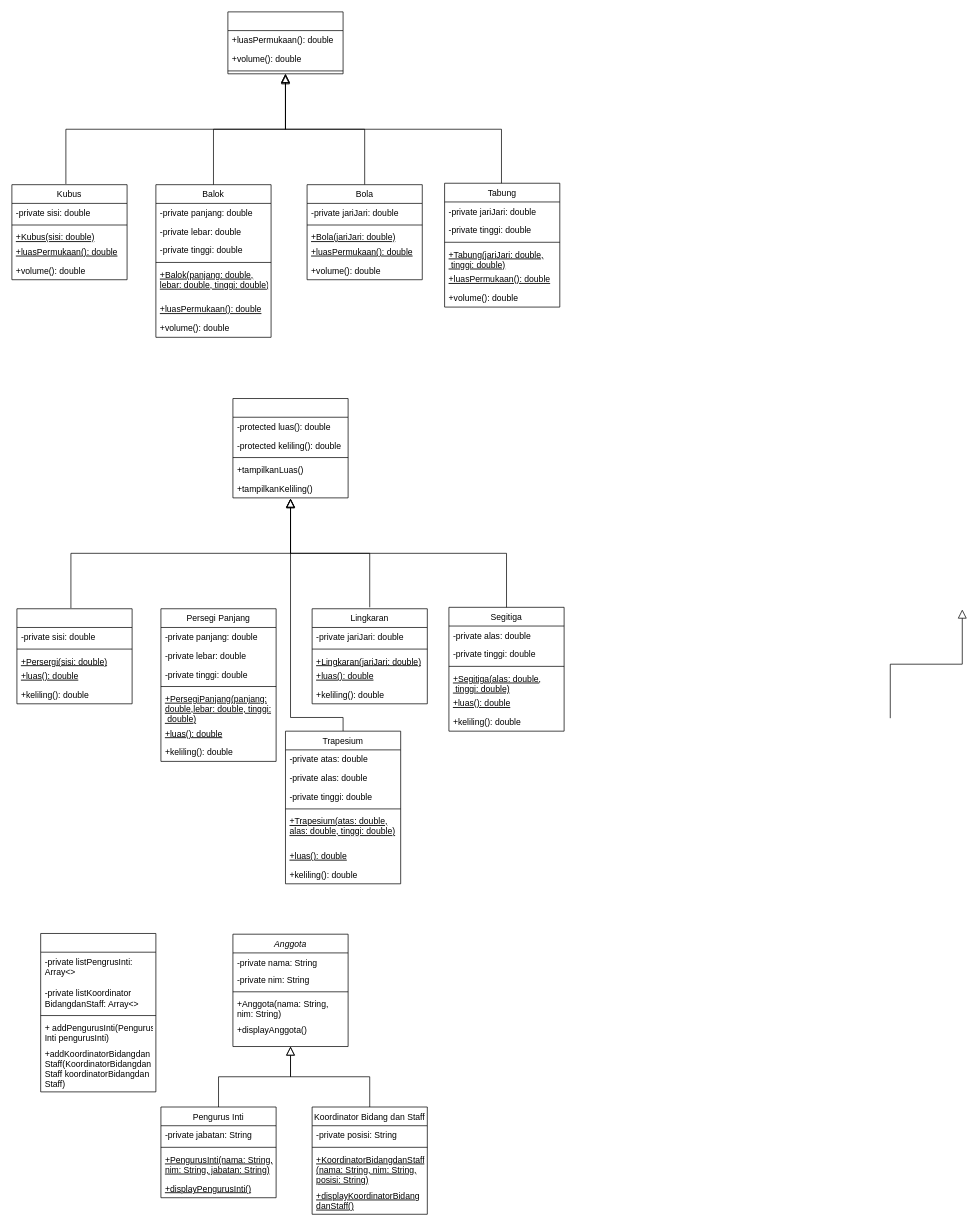
This 978x1226 diagram has some shape labels left out. The shapes that lost their labels are listed below. From the top down, each one's box as (x1, y1, x2, y2) in pixels, then its label:
(227, 11, 343, 74): Bangun Ruang
(232, 398, 348, 498): Bangun Datar
(16, 608, 132, 704): Persegi
(40, 933, 156, 1092): Komunitas Programmer
